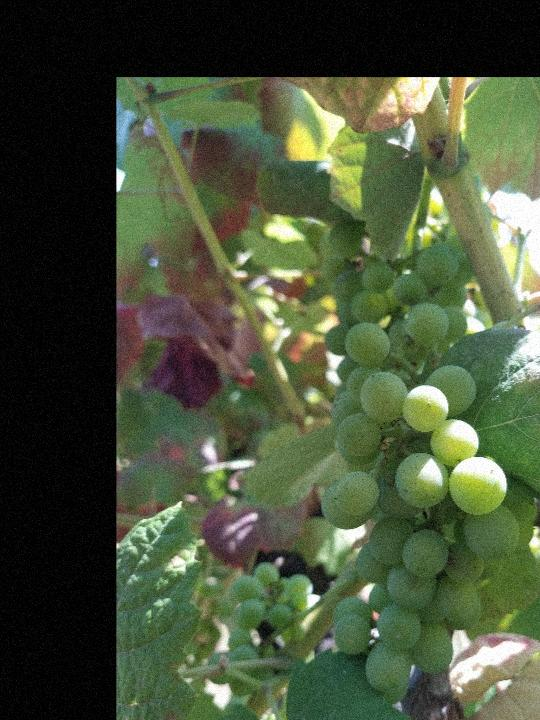grape: (327, 300, 520, 704)
